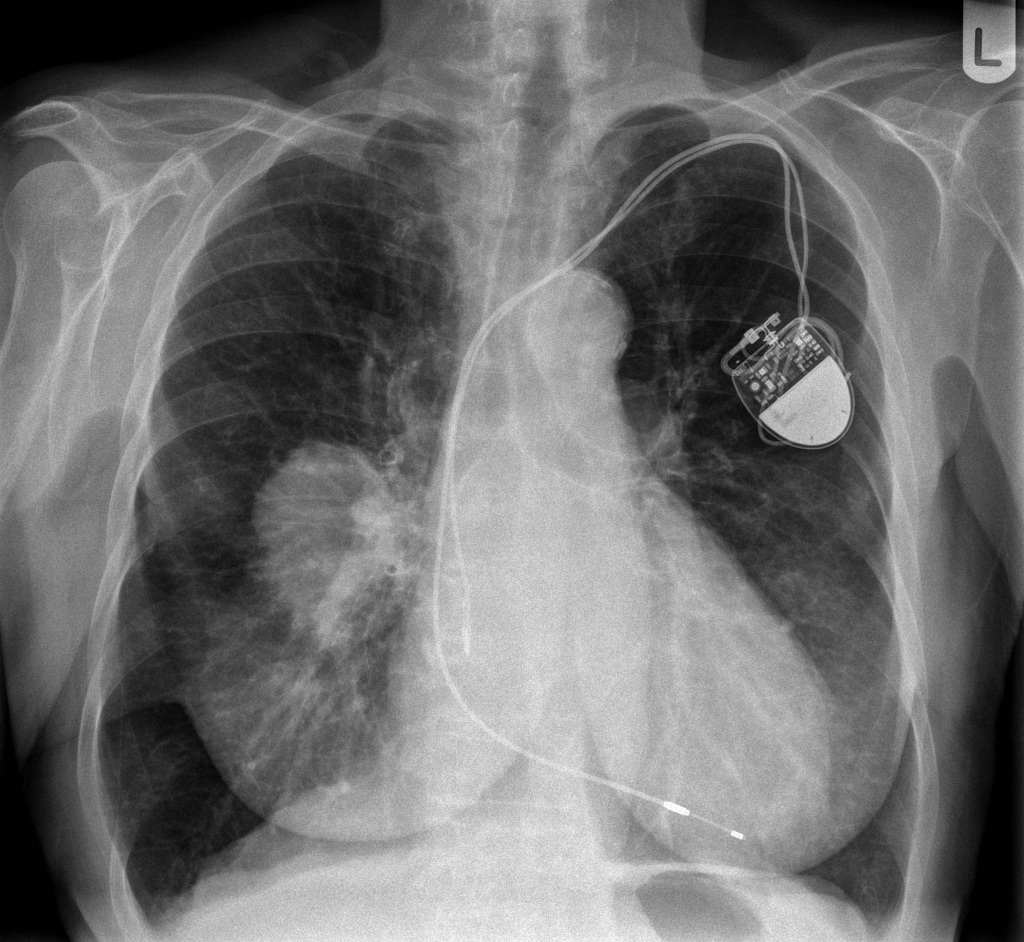cancer: (516, 208, 897, 746)
